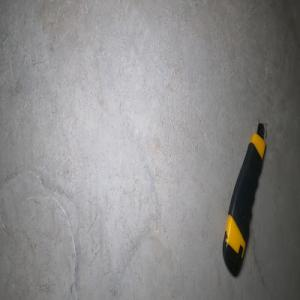Cutter: (221, 121, 266, 277)
